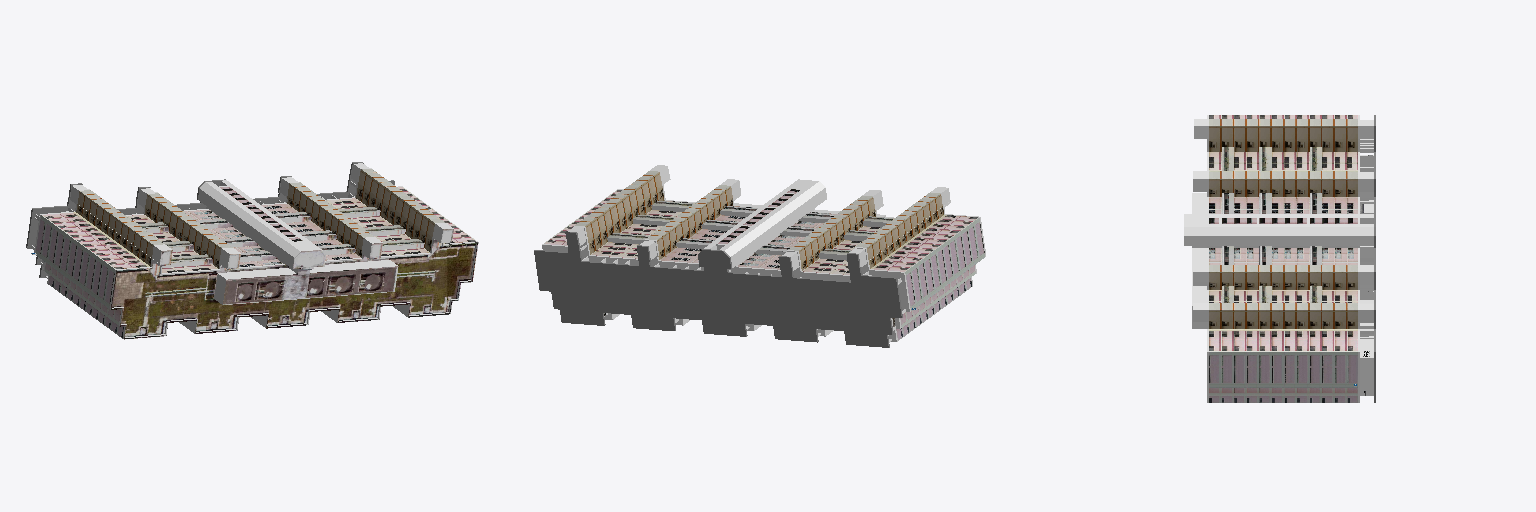
3 renders of one model, left to right at view 1: azimuth 30°, elevation 25°; view 2: azimuth 150°, elevation 25°; view 3: azimuth 270°, elevation 25°, orthographic.
Parts seen in each view (by area): view 1: polygon.807; view 2: polygon.807; view 3: polygon.807.
Boxes of the visible parts, x1=… form: polygon.807: x1=26, y1=162, x2=478, y2=339; polygon.807: x1=534, y1=165, x2=985, y2=347; polygon.807: x1=1184, y1=115, x2=1375, y2=402.
Size of the model in its own units: 93.29 by 33.61 by 41.73.
1 materials, 1 textured.